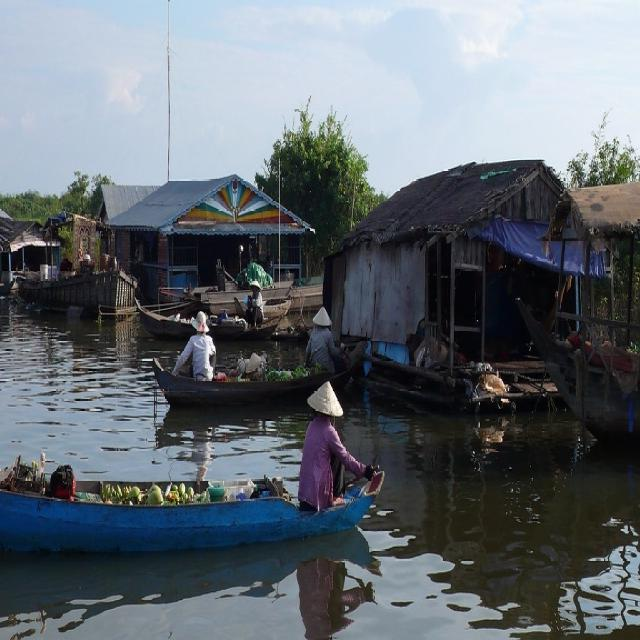boat: (0, 463, 386, 557), (146, 336, 367, 411), (19, 263, 152, 315), (131, 294, 288, 334)
